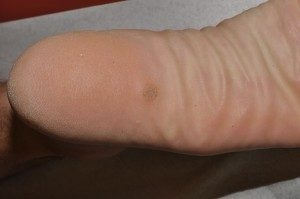Warts: (135, 75, 164, 107)
